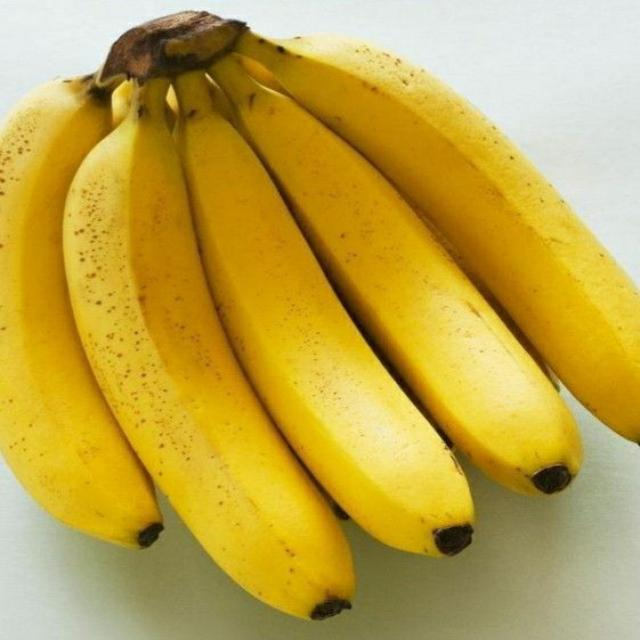unpeal banana: (237, 32, 639, 440), (216, 57, 581, 493), (64, 79, 353, 618), (176, 73, 473, 555), (0, 77, 161, 547)
